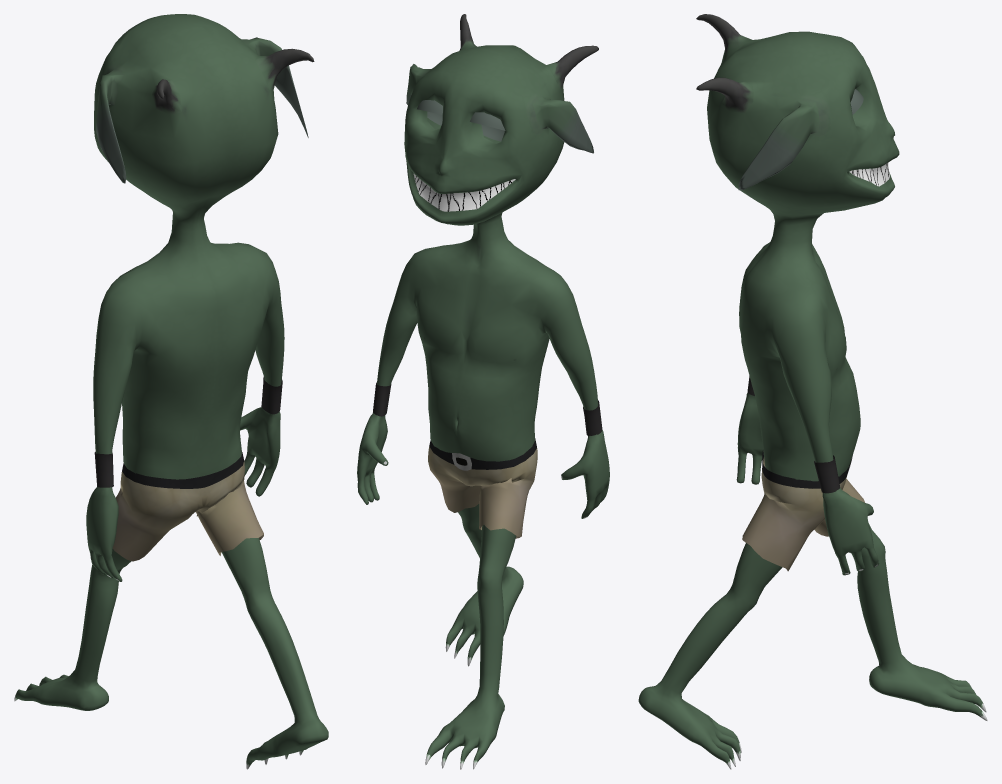
File: lwjglcharactergoblin11_000014.obj
3 views of the same model, side by side, from view 1: azimuth 30°, elevation 25°; view 2: azimuth 150°, elevation 25°; view 3: azimuth 270°, elevation 25° (orthographic). The views are drawn at different scales.
Parts seen in each view (by area): view 1: Cube.002; view 2: Cube.002; view 3: Cube.002.
Boxes of the visible parts, left/top/right/bottom form: Cube.002: left=14, top=14, right=328, bottom=769; Cube.002: left=357, top=14, right=609, bottom=769; Cube.002: left=638, top=14, right=987, bottom=769.
Size of the model in its own units: 1.25 by 3.83 by 1.73.
